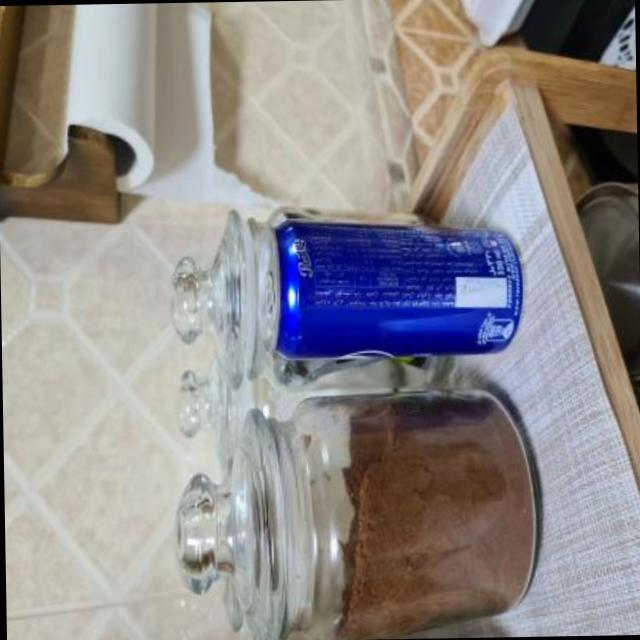metal: (273, 221, 519, 357)
